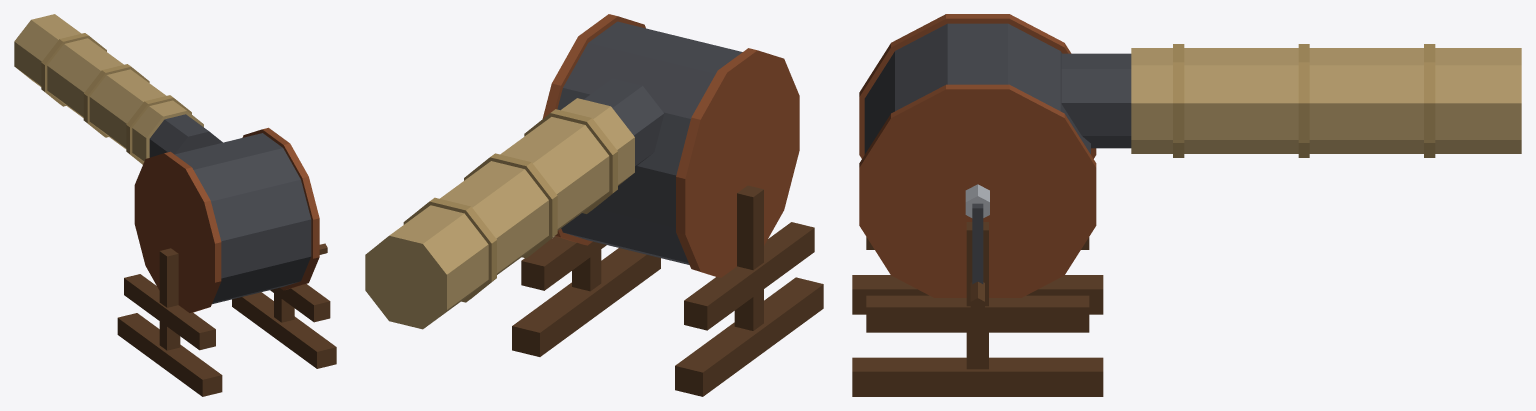
Rendered from mine_vent_fan.glb.
3 renders of one model, left to right at view 1: azimuth 30°, elevation 25°; view 2: azimuth 150°, elevation 25°; view 3: azimuth 270°, elevation 25°, orthographic. The views are drawn at different scales.
Parts seen in each view (by area): view 1: mine_vent_fan; view 2: mine_vent_fan; view 3: mine_vent_fan.
Boxes of the visible parts, x1=… form: mine_vent_fan: x1=14, y1=14, x2=336, y2=396; mine_vent_fan: x1=365, y1=14, x2=823, y2=396; mine_vent_fan: x1=852, y1=14, x2=1521, y2=396.
Size of what is drawn, in the model's own units: 1.01 by 1.18 by 2.4.
